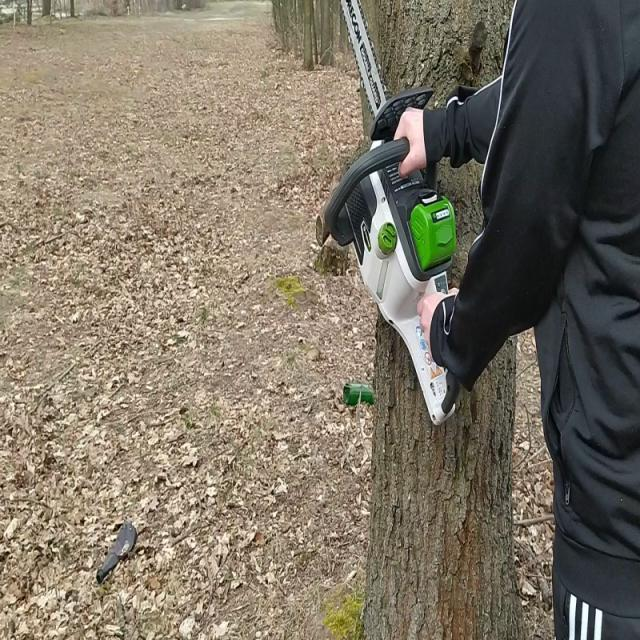Chainsaw: (316, 0, 463, 426)
